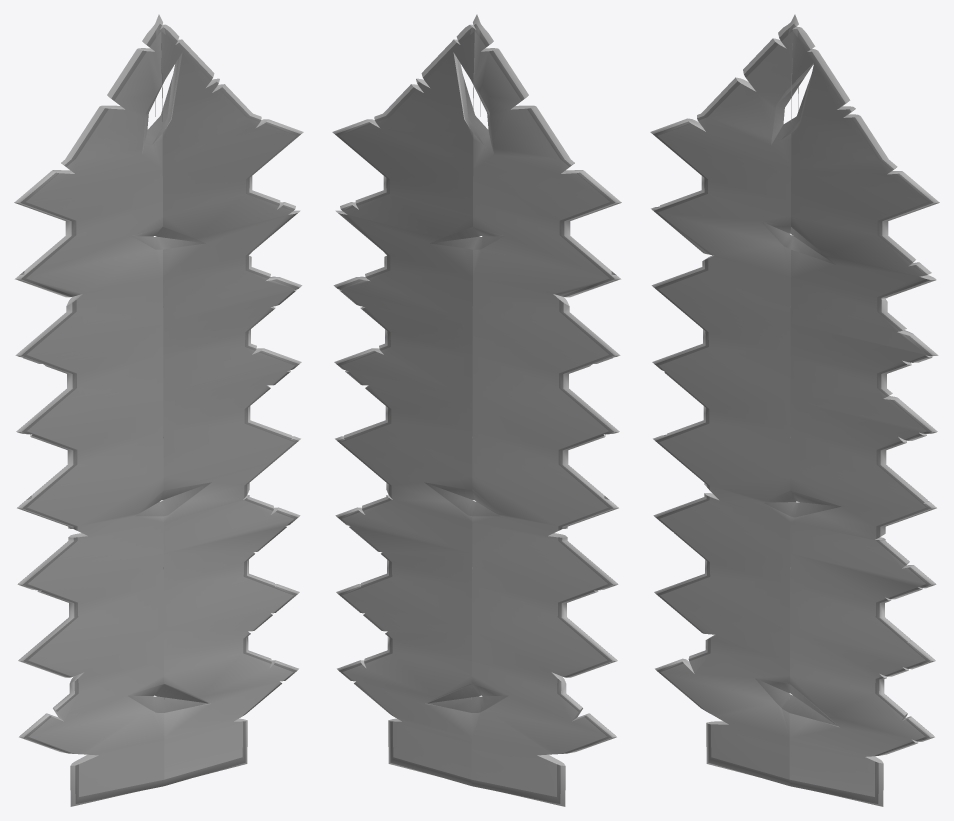
The model's file is stone_blade_scratched_050.glb.
3 views of the same model, side by side, from view 1: azimuth 30°, elevation 25°; view 2: azimuth 150°, elevation 25°; view 3: azimuth 330°, elevation 25° (orthographic).
Visible parts, largest first — view 1: stone_blade_scratched.050; view 2: stone_blade_scratched.050; view 3: stone_blade_scratched.050.
Part boxes in pixels (bbox=[...]): stone_blade_scratched.050: bbox=[14, 14, 303, 806]; stone_blade_scratched.050: bbox=[332, 14, 621, 806]; stone_blade_scratched.050: bbox=[650, 14, 939, 806].
Size of the model in its own units: 4.48 by 11.41 by 0.2879.
1 material, 1 textured.
